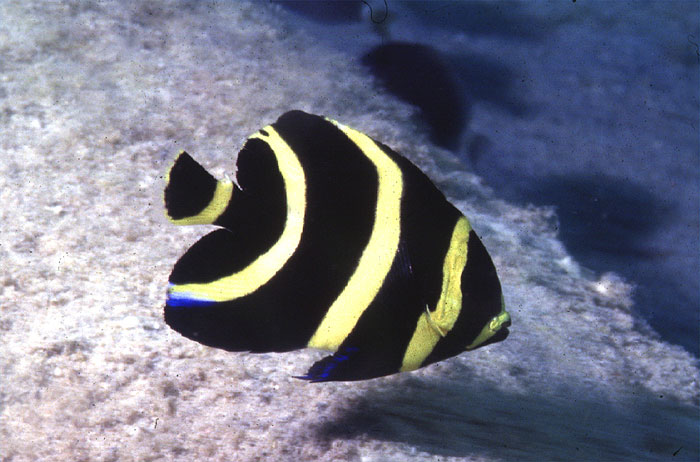Pomacanthus_paru: (136, 102, 530, 384)
